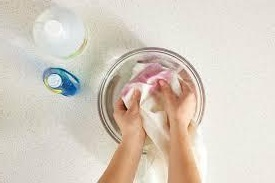wine: (127, 62, 173, 104)
